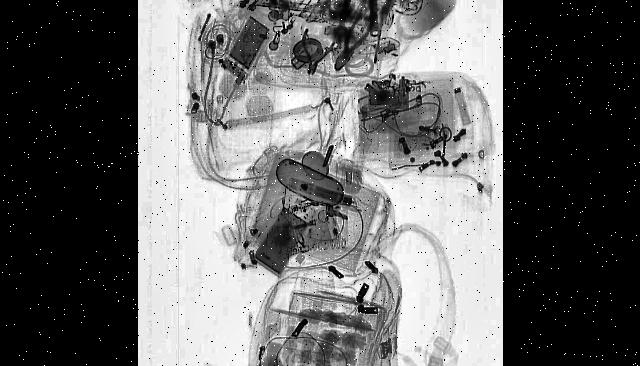Pliers: (330, 4, 372, 82), (296, 18, 334, 83)
Wrench: (366, 0, 380, 37)
